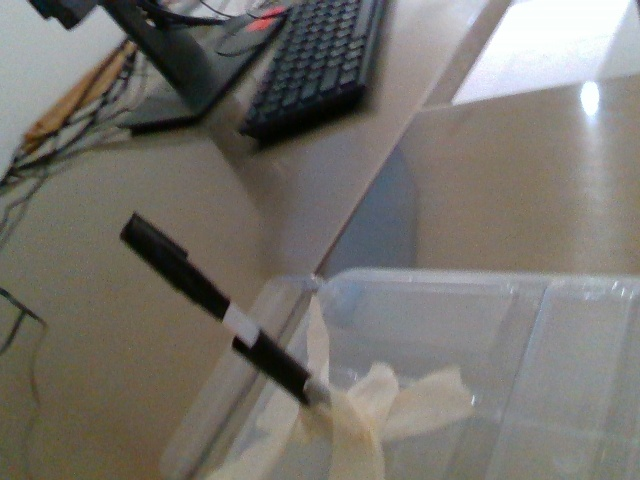test_strip: (118, 207, 260, 347)
